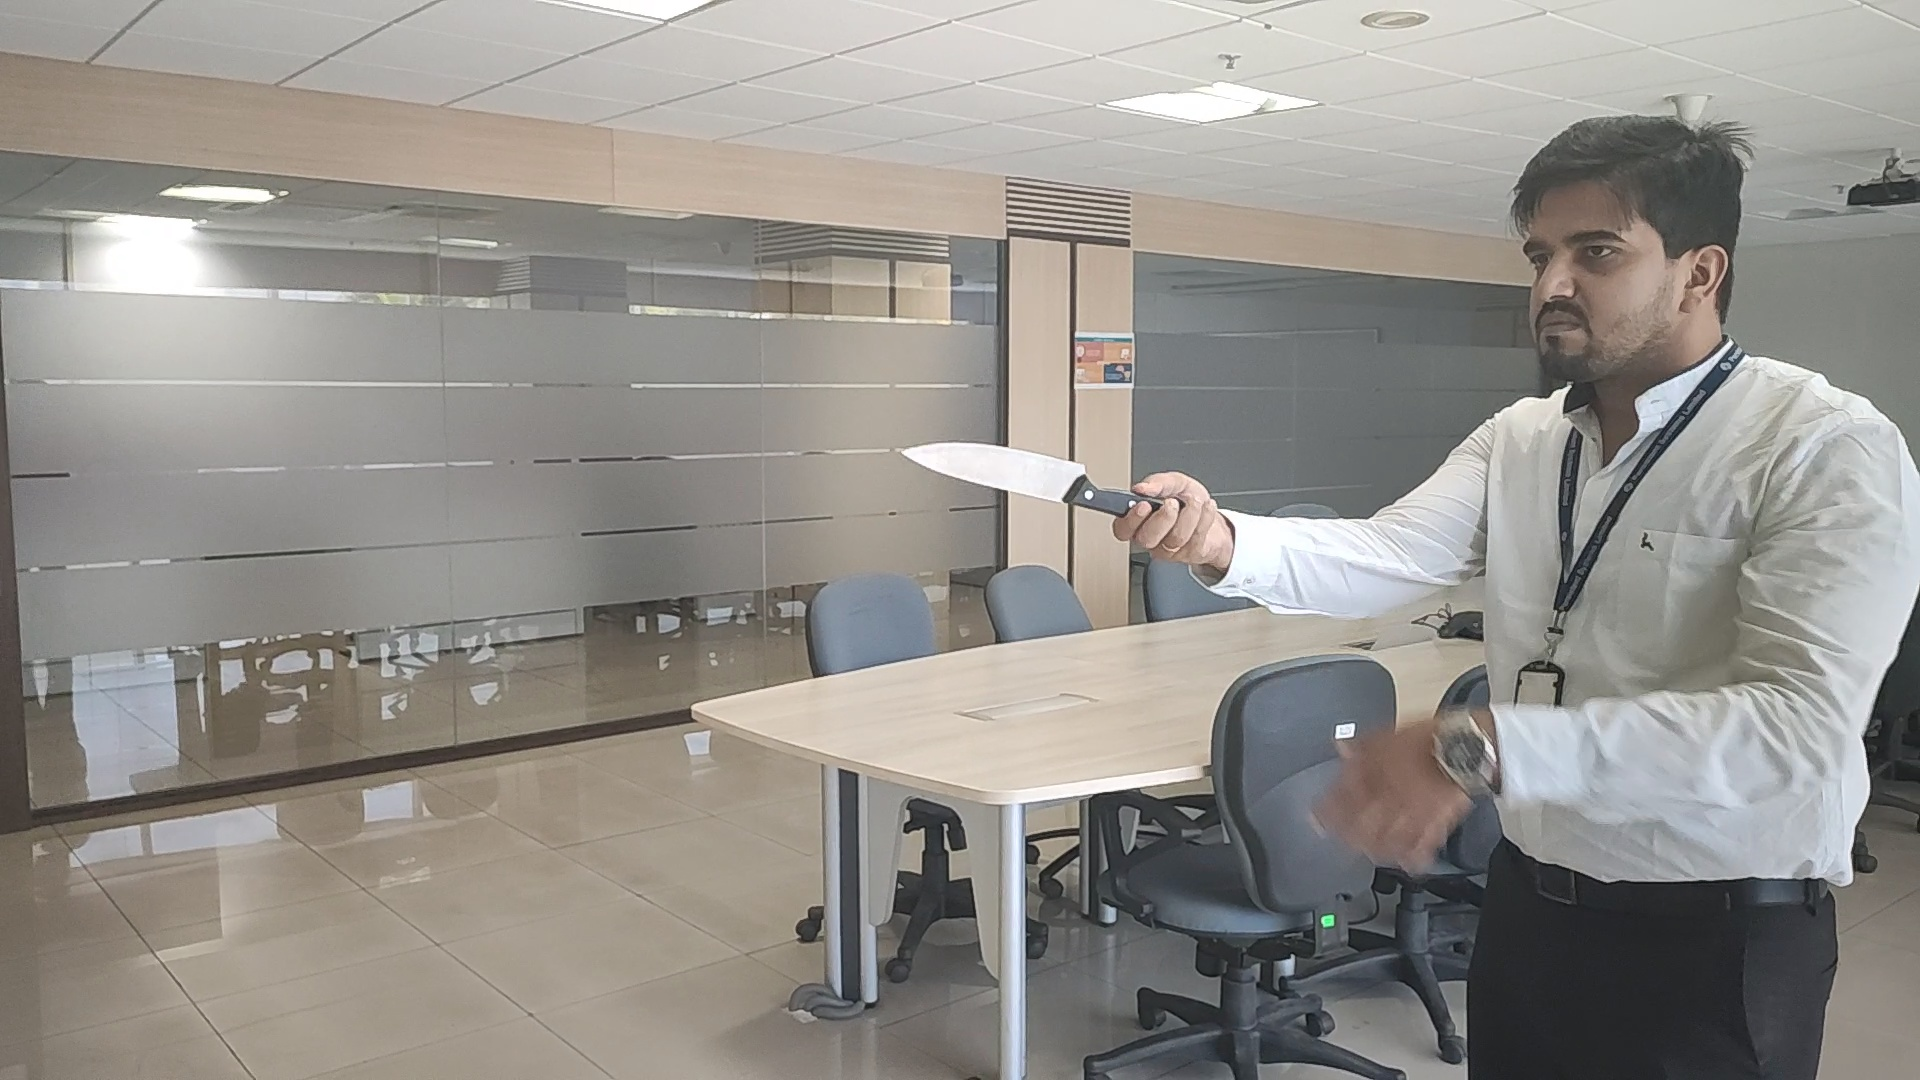knife: (895, 433, 1131, 514)
